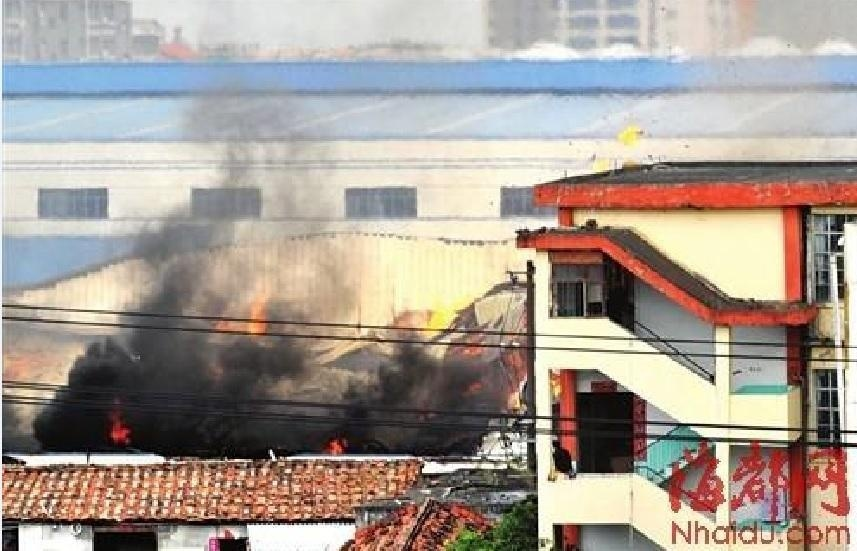fire: (213, 308, 269, 337), (104, 405, 135, 444), (324, 433, 346, 452)
